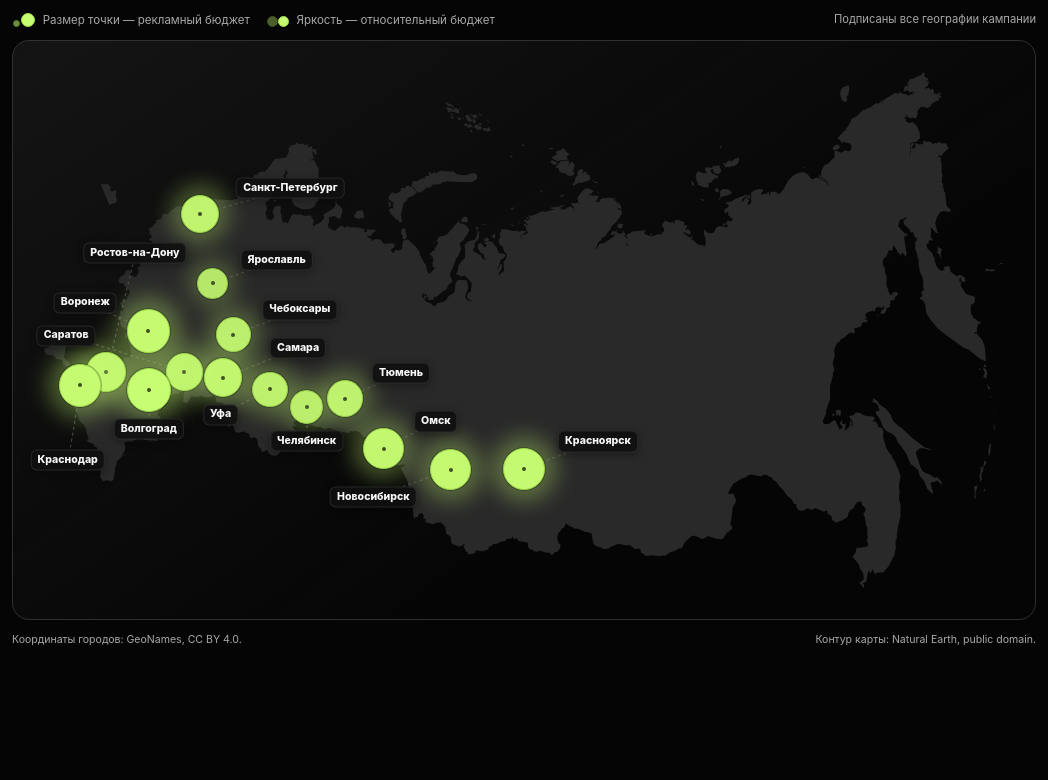
Test: GeoBudgetMap › renders all campaign labels and backend-provided channels and limitation count
The image size is (1048, 780).
Expected: the text "Подписаны все географии кампании" is shown, [834,12,1036,28]
Click the button named "Ярославль. Бюджет: 8,8 млн ₽. Доля бюджета: 3,3 %. Каналы: Ц" at (212, 284), box [190,262,234,306]
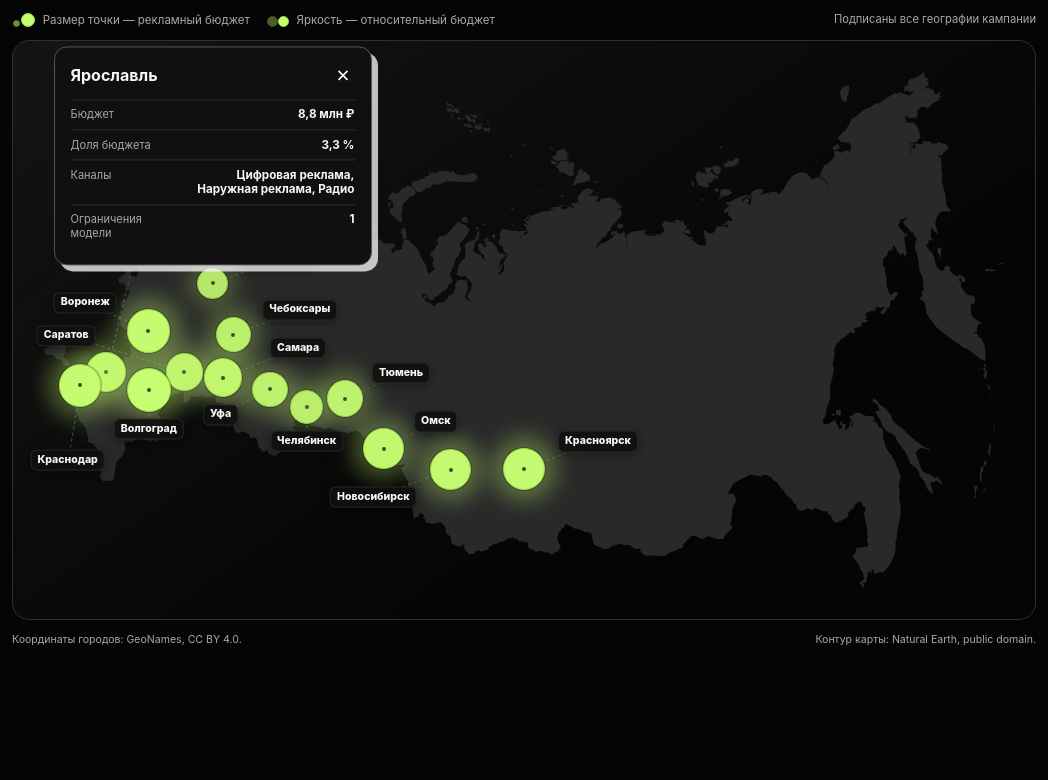
Now the tooltip shows "Цифровая реклама", box [197,168,354,196]
Now the tooltip shows "Наружная реклама", box [197,168,354,196]
Now the tooltip shows "Радио", box [197,168,354,196]
